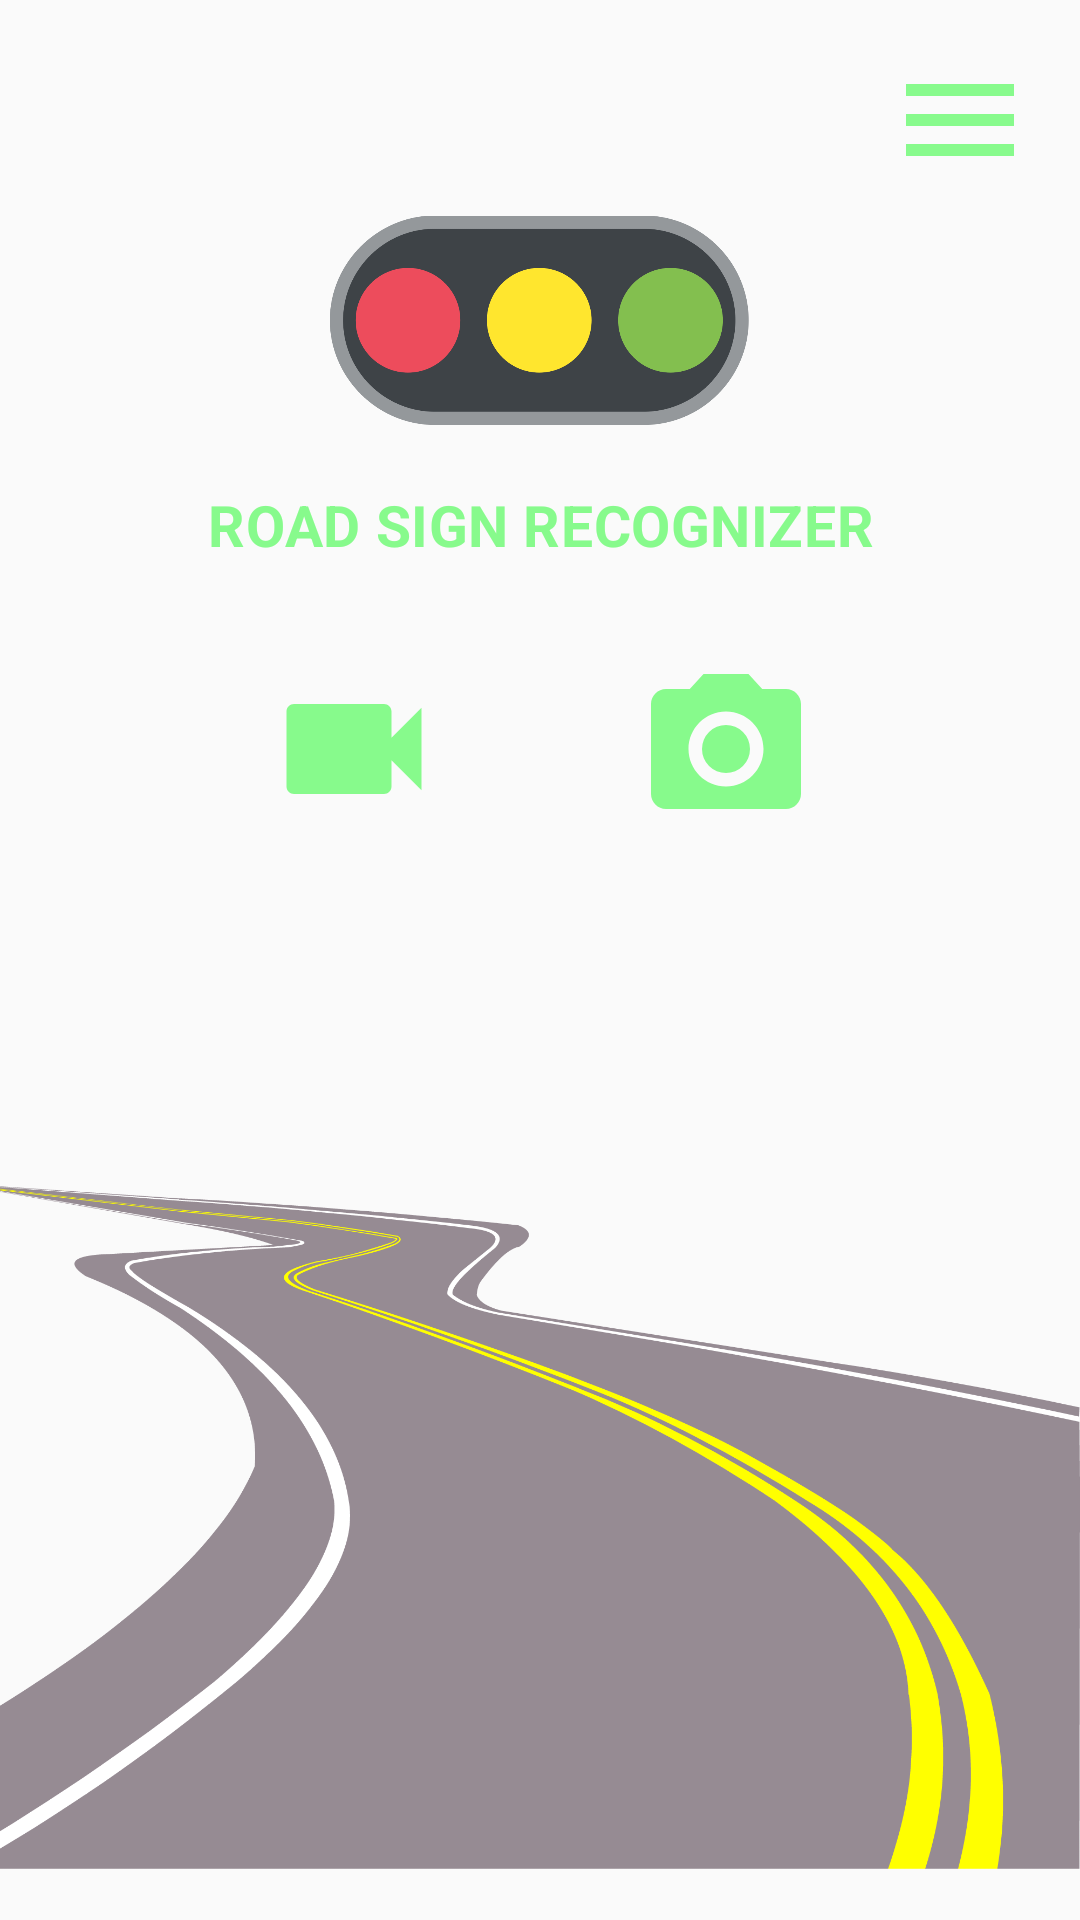

Named icons in this screenshot (1080 × 1920) and their bounding boxes, (x1, y1, x2, y2):
menu: (906, 84, 1014, 156)
photo camera: (651, 674, 801, 809)
videocam: (286, 704, 422, 794)
